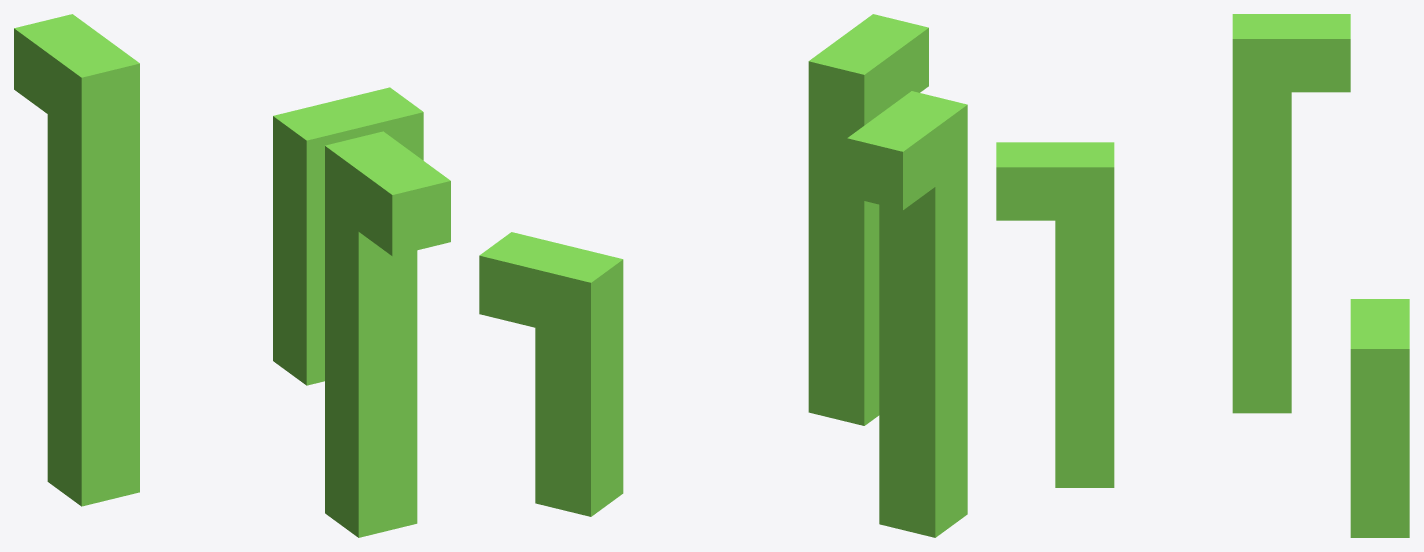
Rendered from TallGrass.obj.
3 renders of one model, left to right at view 1: azimuth 30°, elevation 25°; view 2: azimuth 150°, elevation 25°; view 3: azimuth 270°, elevation 25°, orthographic. The views are drawn at different scales.
Bounding box in the file's own units: 0.7 × 0.7 × 0.7.
1 material, 1 textured.
